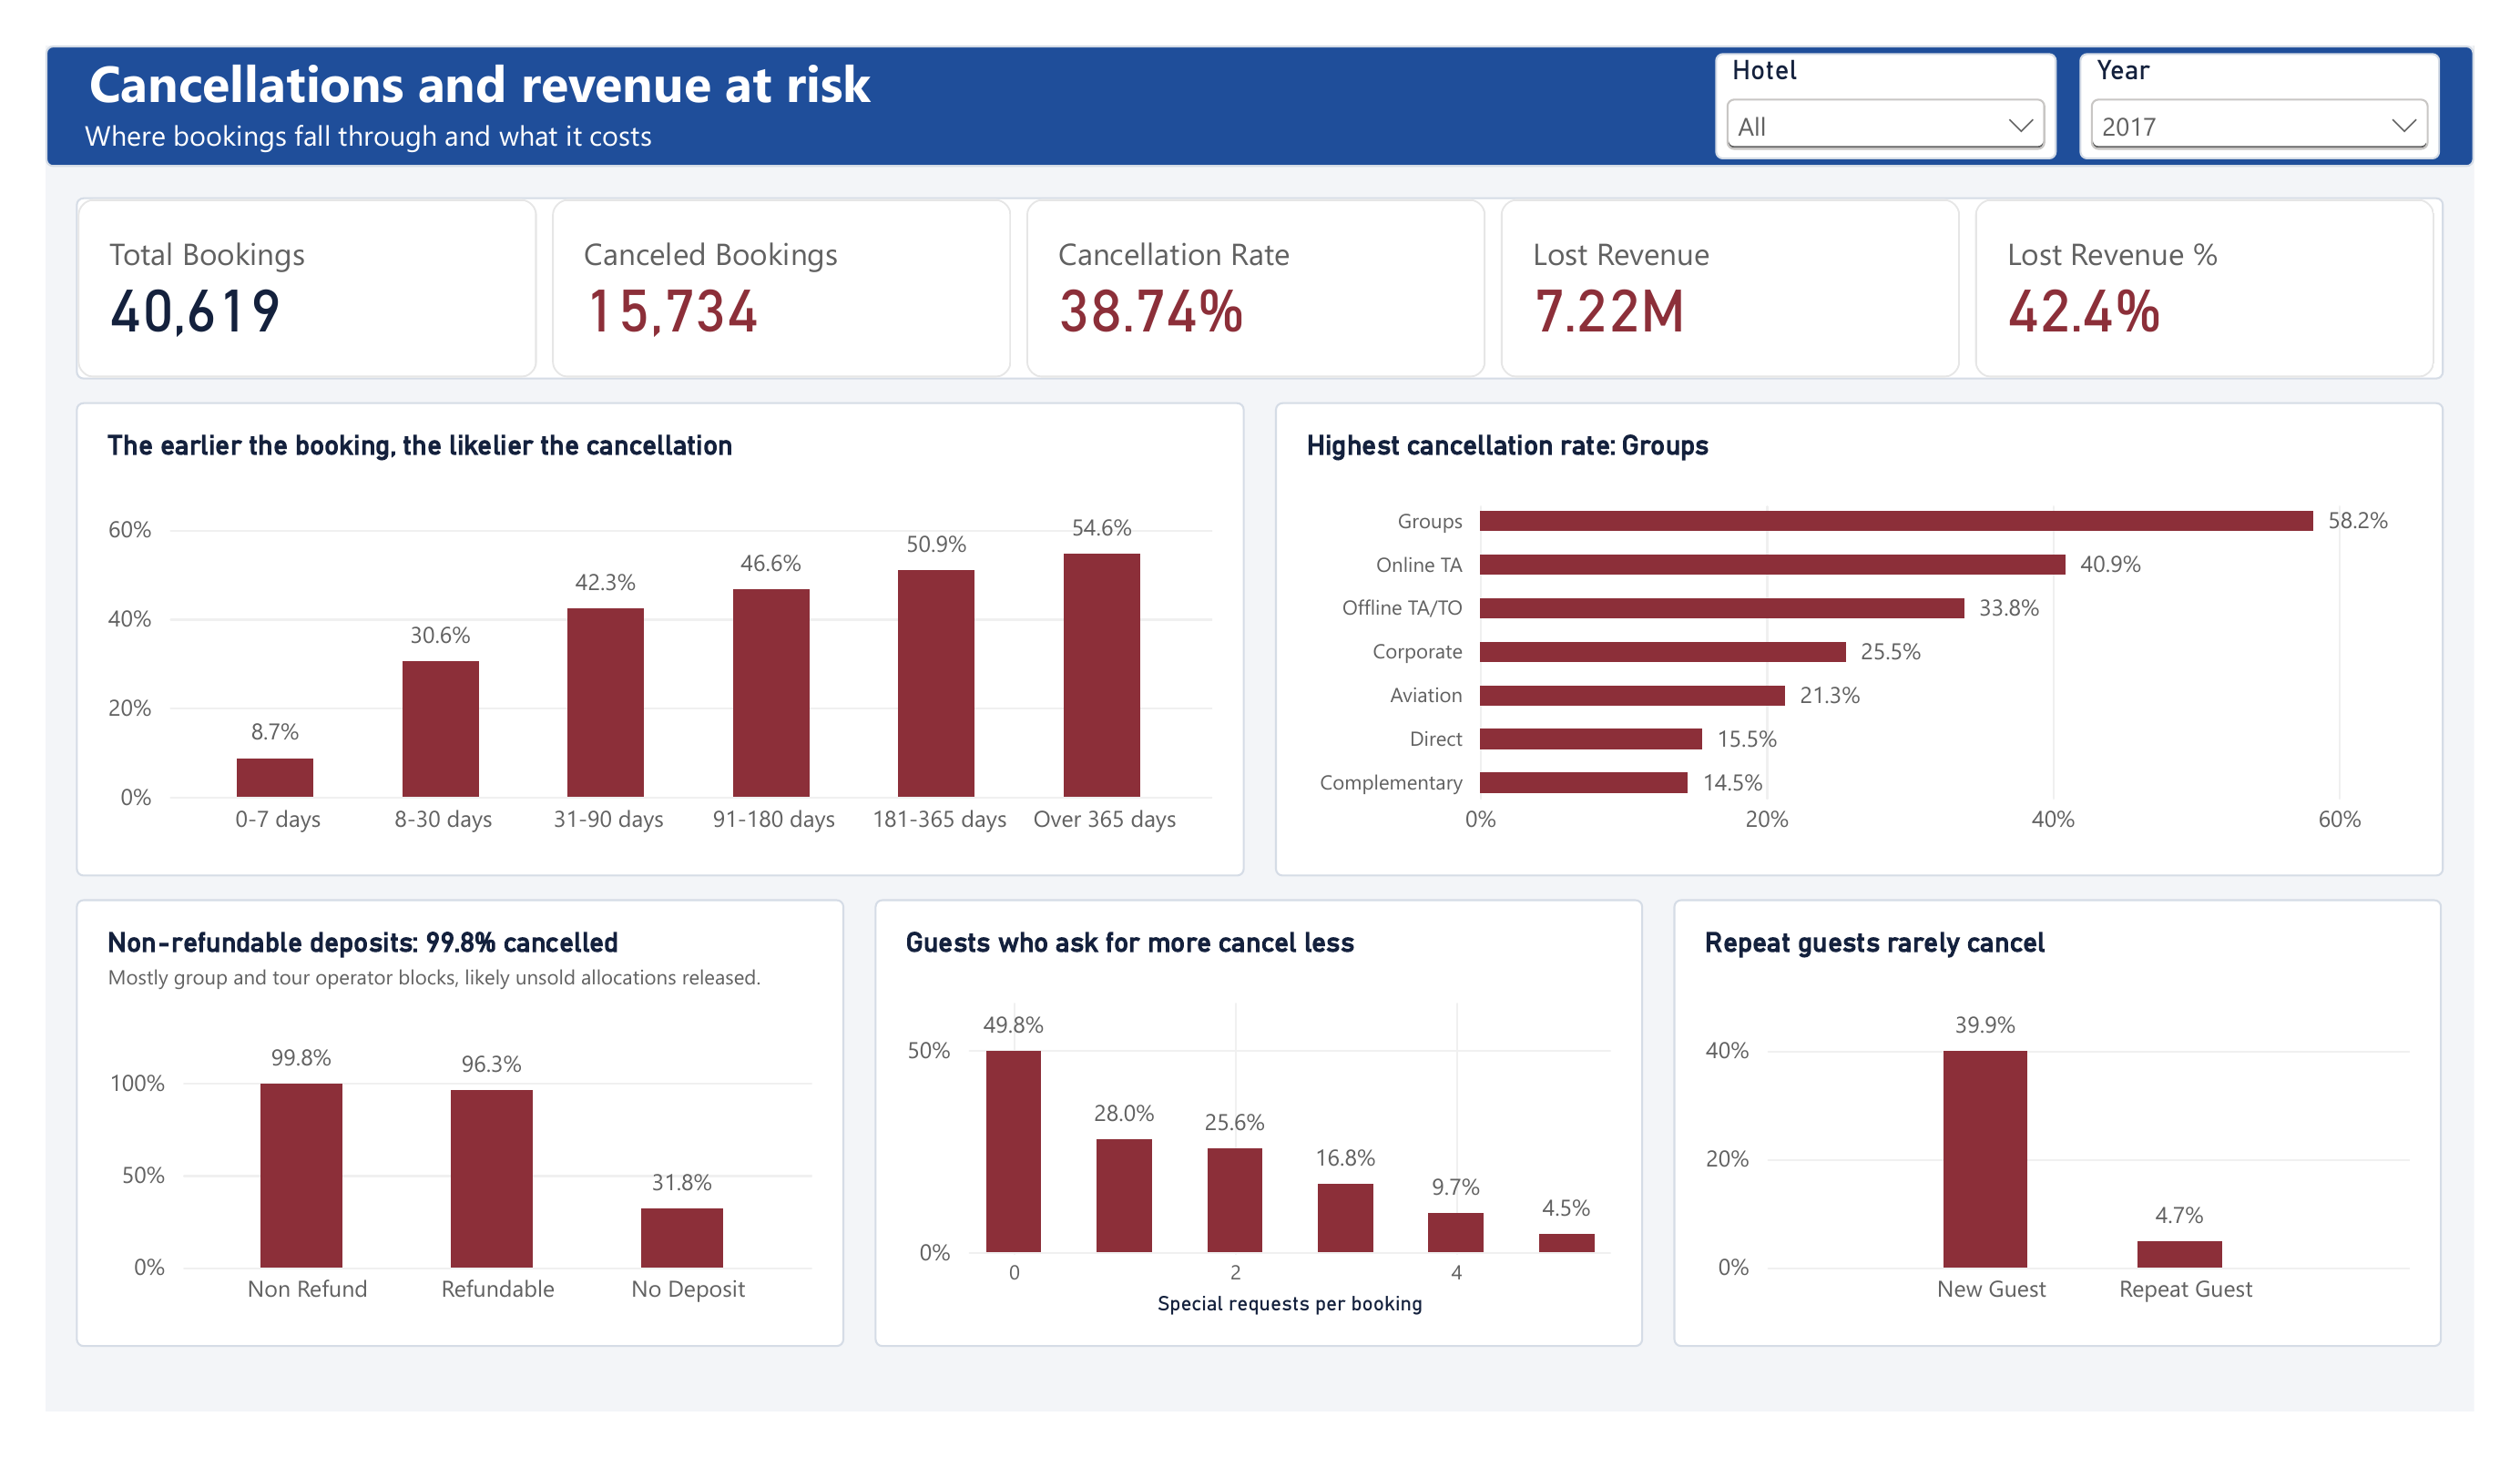

Layout of this report page (visuals, bound fields, positions):
{"tool":"powerbi","page":{"name":"Cancellations","canvas":[1280,720],"ordinal":1},"visuals":[{"type":"textbox","box":[0,0,1280,64],"z":0},{"type":"slicer","fields":{"Values":["Bookings.Hotel"]},"box":[880,4,180,56],"z":1000},{"type":"slicer","fields":{"Values":["Date.Year"]},"box":[1072,4,190,56],"z":2000},{"type":"cardVisual","fields":{"Data":["Bookings.Total Bookings Label","Bookings.Canceled Bookings Label","Bookings.Cancellation Rate","Bookings.Lost Revenue","Bookings.Lost Revenue %"]},"box":[16,80,1248,96],"z":3000},{"type":"clusteredColumnChart","title":"The earlier the booking, the likelier the cancellation","fields":{"Category":["Bookings.Lead Time Band"],"Y":["Bookings.Cancellation Rate"]},"box":[16,188,616,250],"z":4000},{"type":"clusteredBarChart","fields":{"Category":["Bookings.Market Segment"],"Y":["Bookings.Cancellation Rate"]},"box":[648,188,616,250],"z":5000},{"type":"clusteredColumnChart","fields":{"Category":["Bookings.Deposit Type"],"Y":["Bookings.Cancellation Rate"]},"box":[16,450,405,236],"z":6000},{"type":"clusteredColumnChart","title":"Guests who ask for more cancel less","fields":{"Category":["Bookings.Special Requests"],"Y":["Bookings.Cancellation Rate"]},"box":[437,450,405,236],"z":7000},{"type":"clusteredColumnChart","title":"Repeat guests rarely cancel","fields":{"Category":["Bookings.Guest Status"],"Y":["Bookings.Cancellation Rate"]},"box":[858,450,405,236],"z":8000}]}

Visuals, with their boxes on the page's 1280x720 design canvas (x1, y1, x2, y2). These are canvas units, not pixel positions in the 2520x1457 screenshot, which may show the page scaled, cropped or inside an application window:
textbox: bbox=[0, 0, 1280, 64]
slicer - Bookings.Hotel: bbox=[880, 4, 1060, 60]
slicer - Date.Year: bbox=[1072, 4, 1262, 60]
cardVisual - Bookings.Total Bookings Label x Bookings.Canceled Bookings Label: bbox=[16, 80, 1264, 176]
"The earlier the booking, the likelier the cancellation" clusteredColumnChart: bbox=[16, 188, 632, 438]
clusteredBarChart - Bookings.Market Segment x Bookings.Cancellation Rate: bbox=[648, 188, 1264, 438]
clusteredColumnChart - Bookings.Deposit Type x Bookings.Cancellation Rate: bbox=[16, 450, 421, 686]
"Guests who ask for more cancel less" clusteredColumnChart: bbox=[437, 450, 842, 686]
"Repeat guests rarely cancel" clusteredColumnChart: bbox=[858, 450, 1263, 686]
